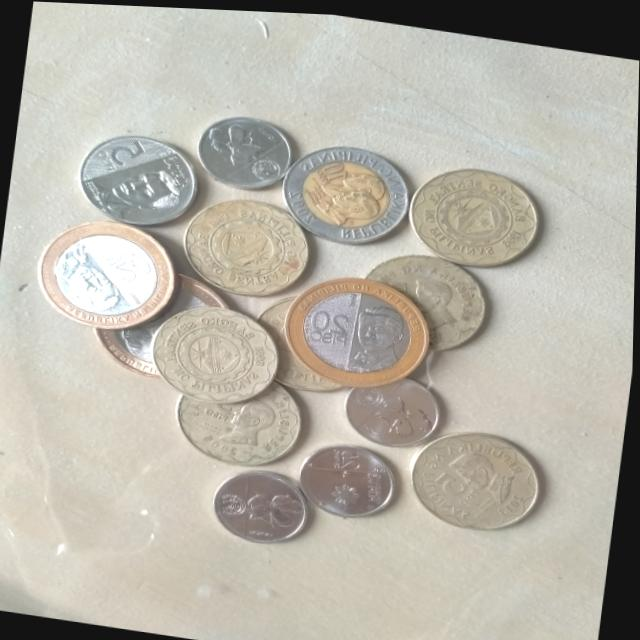10_Old_Front: (302, 148, 358, 194)
20_New_Front: (305, 301, 355, 348)
25Cent_New_Back: (367, 390, 434, 437), (245, 485, 308, 531), (209, 118, 266, 167)
25Cent_New_Front: (327, 440, 368, 473)
5_New_Front: (90, 129, 153, 179)
5_Old_Back: (403, 156, 541, 271), (152, 297, 281, 407), (183, 189, 310, 295)
5_Old_Front: (428, 460, 487, 507)
